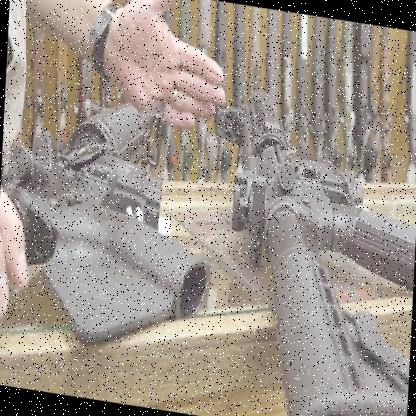rifle: (205, 84, 416, 416), (0, 64, 176, 270)
